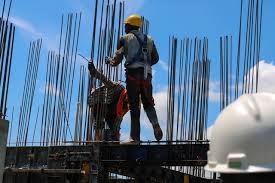hard hat: (204, 92, 275, 173), (124, 14, 143, 26)
